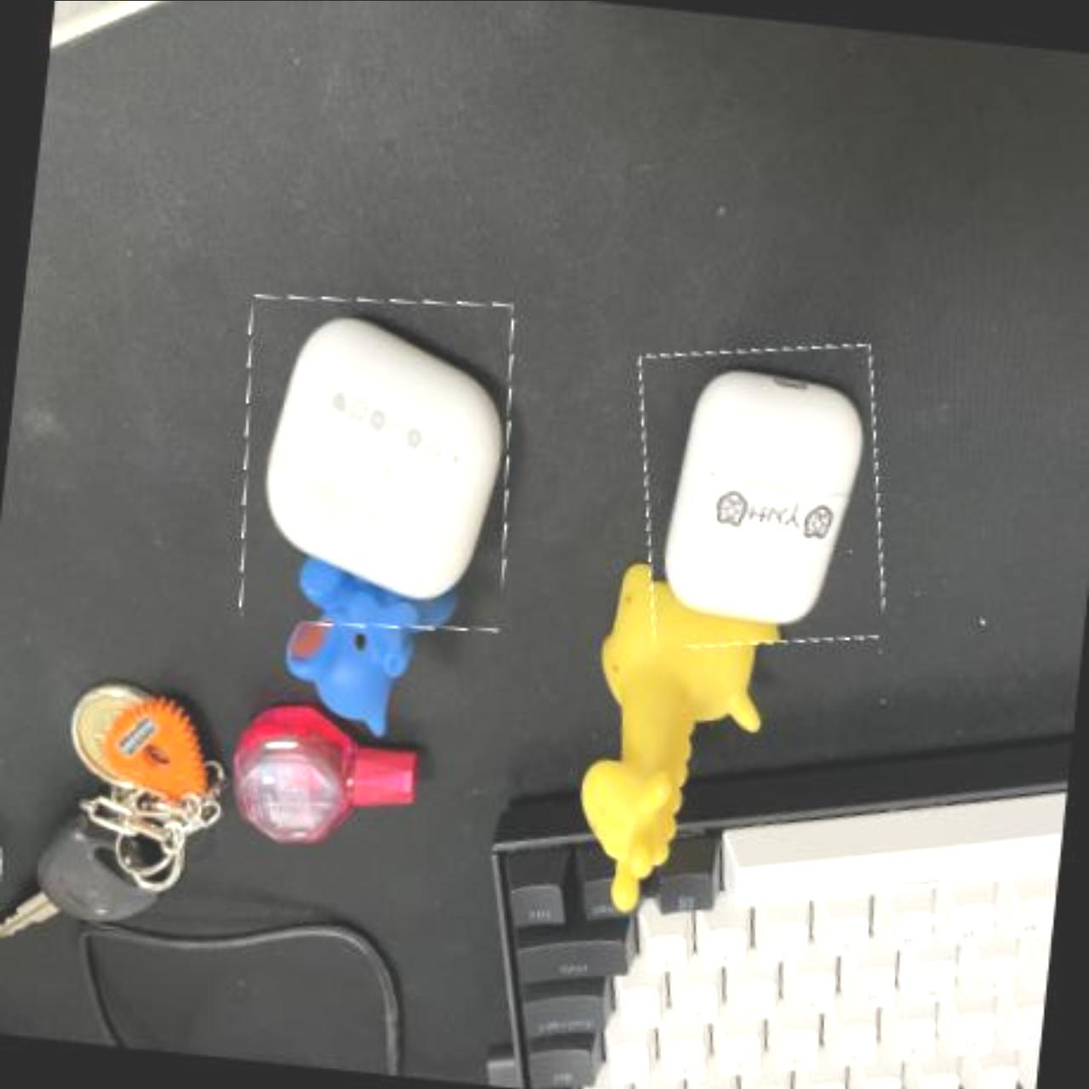AirPods: (223, 284, 527, 643), (619, 331, 901, 662)
